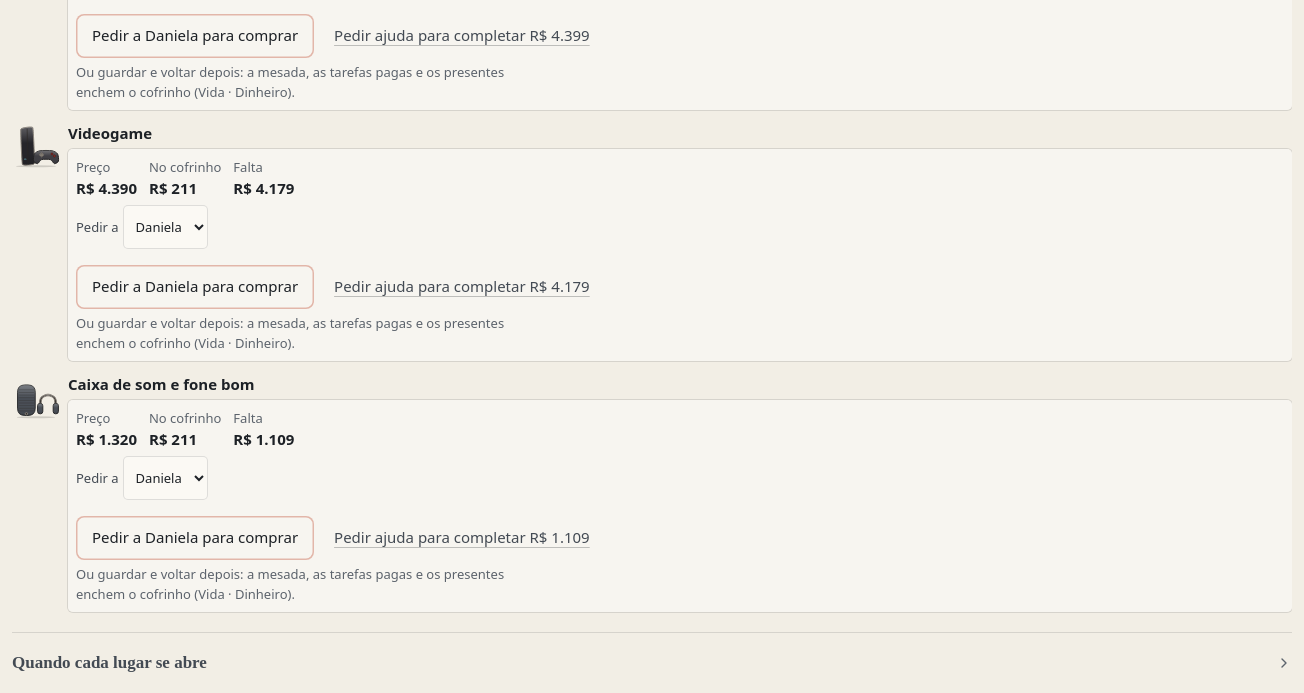
it: Vida: moradia, dinheiro, compras, tempo, cidade — num lugar só › Compras para uma criança: primeiro a família; as lojas existem, recolhidas, com a idade e o motivo (não somem)
(page scrolled)
What coordinates should you click on to do the following:
click the button "Quando cada lugar se abre"
I would click on:
 (109, 662)
Its box is [12,641,1292,685].
(page scrolled)
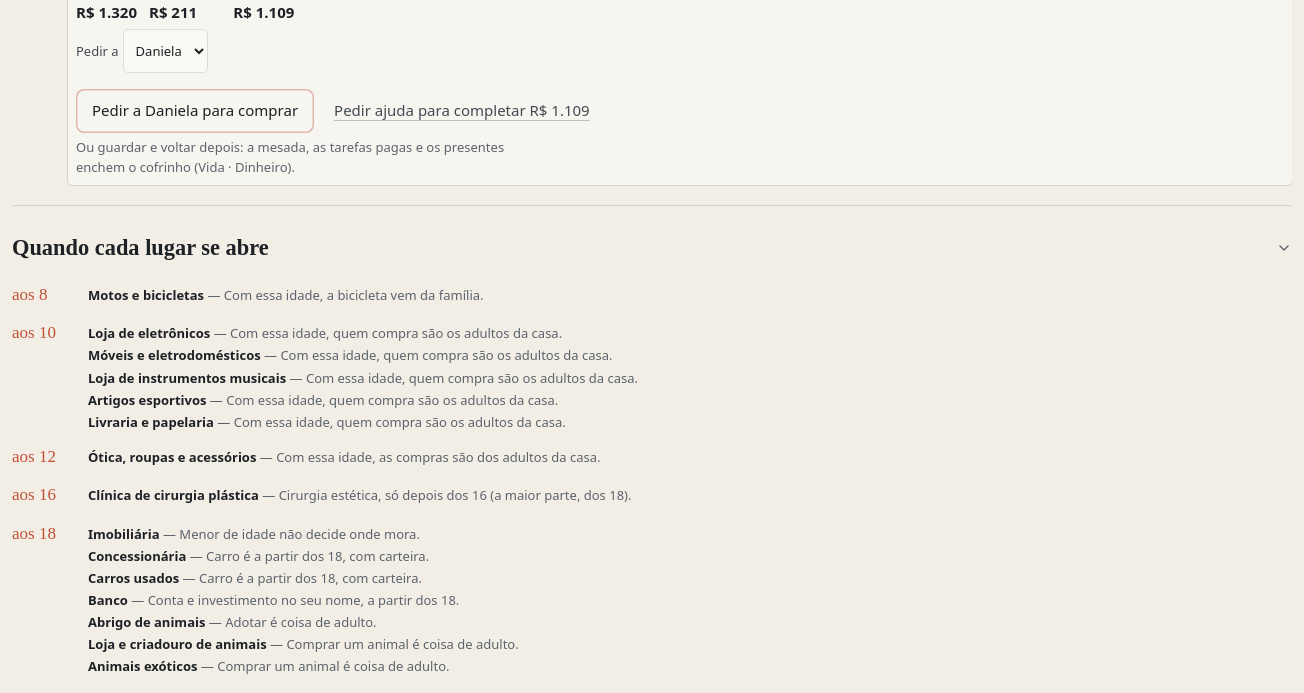
Check: the text "Imobiliária" is shown, box [88,525,160,543]
Check: the text "— Menor de idade não decide onde mora." is shown, box [160,525,420,543]
Check: the text "aos 18" is shown, box [12,524,56,543]
